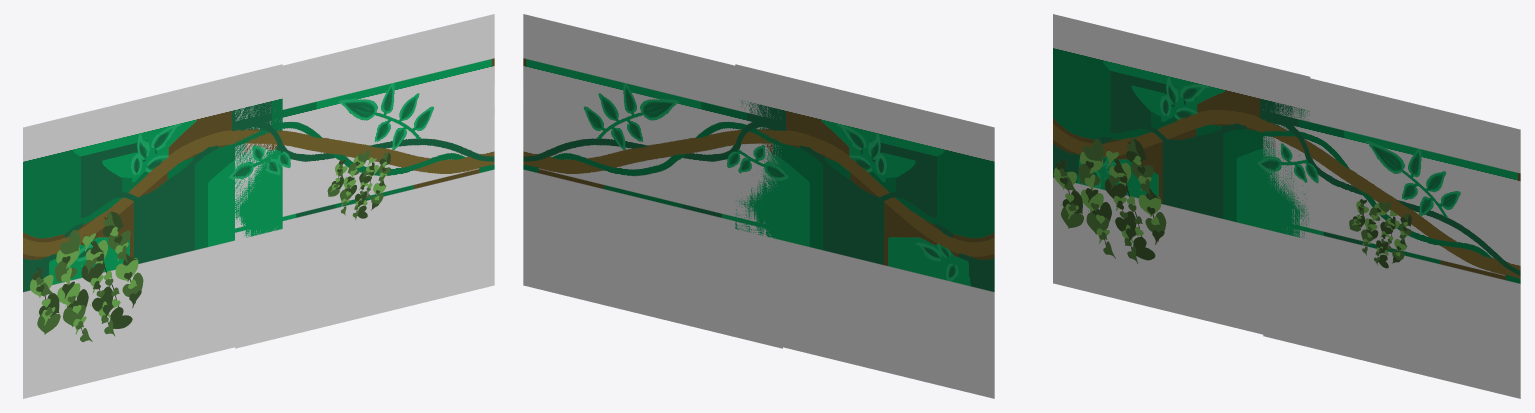
Rendered from Vines 1.fbx.
3 renders of one model, left to right at view 1: azimuth 30°, elevation 25°; view 2: azimuth 150°, elevation 25°; view 3: azimuth 330°, elevation 25°, orthographic.
Visible parts, largest first — view 1: Plane001, Plane002, Plane003, Plane004; view 2: Plane001, Plane002; view 3: Plane002, Plane001, Plane003, Plane004.
Boxes of the visible parts, <box> form: Plane001: <box>23,64,282,398</box>; Plane002: <box>235,14,494,348</box>; Plane003: <box>30,211,143,341</box>; Plane004: <box>327,150,390,219</box>; Plane001: <box>735,64,994,398</box>; Plane002: <box>523,14,782,348</box>; Plane002: <box>1263,70,1520,398</box>; Plane001: <box>1053,14,1310,345</box>; Plane003: <box>1053,138,1166,263</box>; Plane004: <box>1349,199,1411,268</box>.
Size of the model in its own units: 293 by 158 by 3.2.
